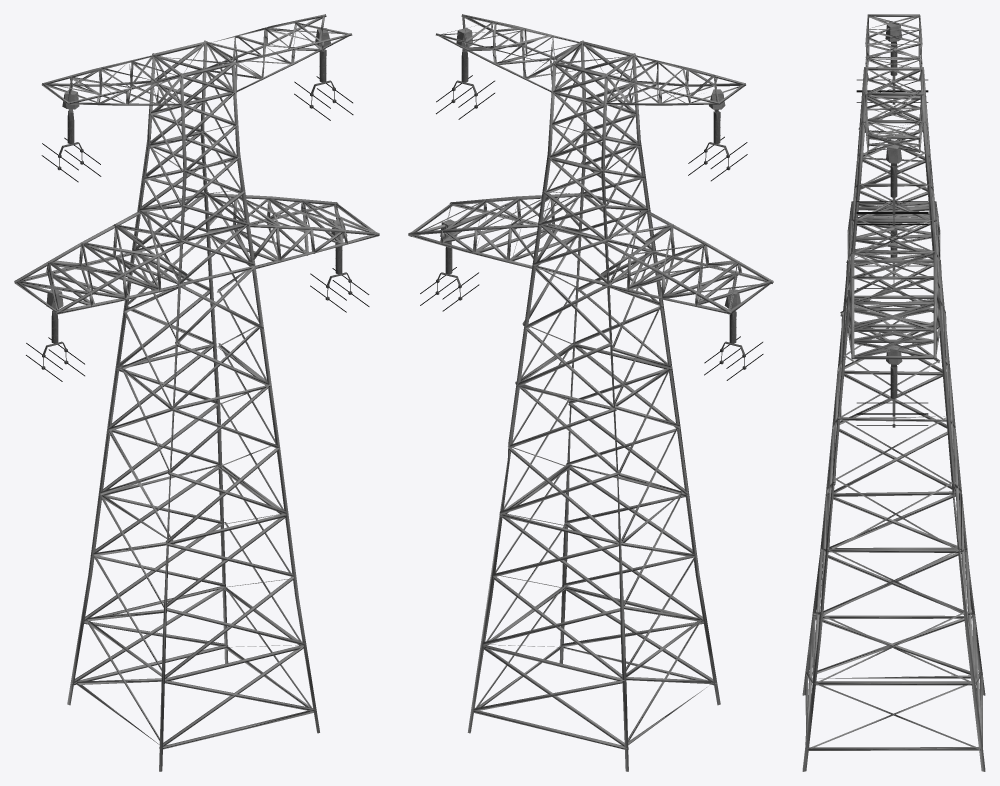
The model's file is pylon.zfix-v1.lod0.glb.
3 renders of one model, left to right at view 1: azimuth 30°, elevation 25°; view 2: azimuth 150°, elevation 25°; view 3: azimuth 270°, elevation 25°, orthographic.
Parts seen in each view (by area): view 1: Pylon_5, Pylon_0, Pylon_1; view 2: Pylon_5, Pylon_0, Pylon_1; view 3: Pylon_5, Pylon_0, Pylon_1.
Boxes of the visible parts, x1=… form: Pylon_5: x1=14, y1=14, x2=379, y2=771; Pylon_0: x1=26, y1=76, x2=369, y2=381; Pylon_1: x1=51, y1=50, x2=342, y2=343; Pylon_5: x1=408, y1=14, x2=773, y2=771; Pylon_0: x1=420, y1=75, x2=763, y2=380; Pylon_1: x1=445, y1=49, x2=736, y2=343; Pylon_5: x1=802, y1=14, x2=985, y2=771; Pylon_0: x1=856, y1=76, x2=928, y2=427; Pylon_1: x1=890, y1=44, x2=897, y2=398.
Size of the model in its own units: 14.32 by 28 by 7.1.
3 materials, 2 textured.
